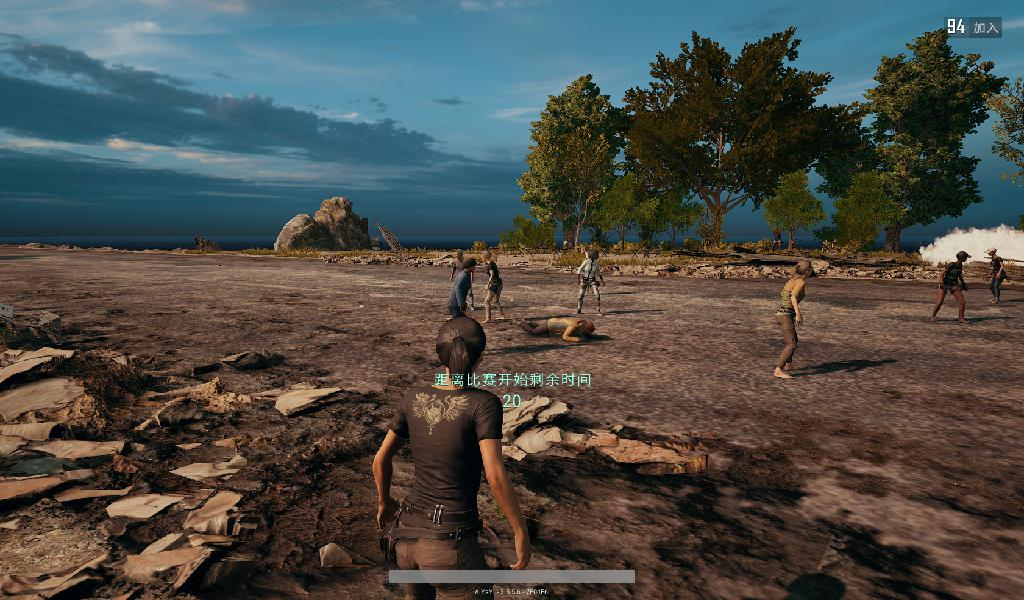Target Person: (371, 316, 534, 600), (773, 258, 812, 381), (932, 248, 971, 323), (446, 257, 477, 343), (479, 248, 509, 325), (575, 250, 604, 320), (983, 245, 1006, 304)
